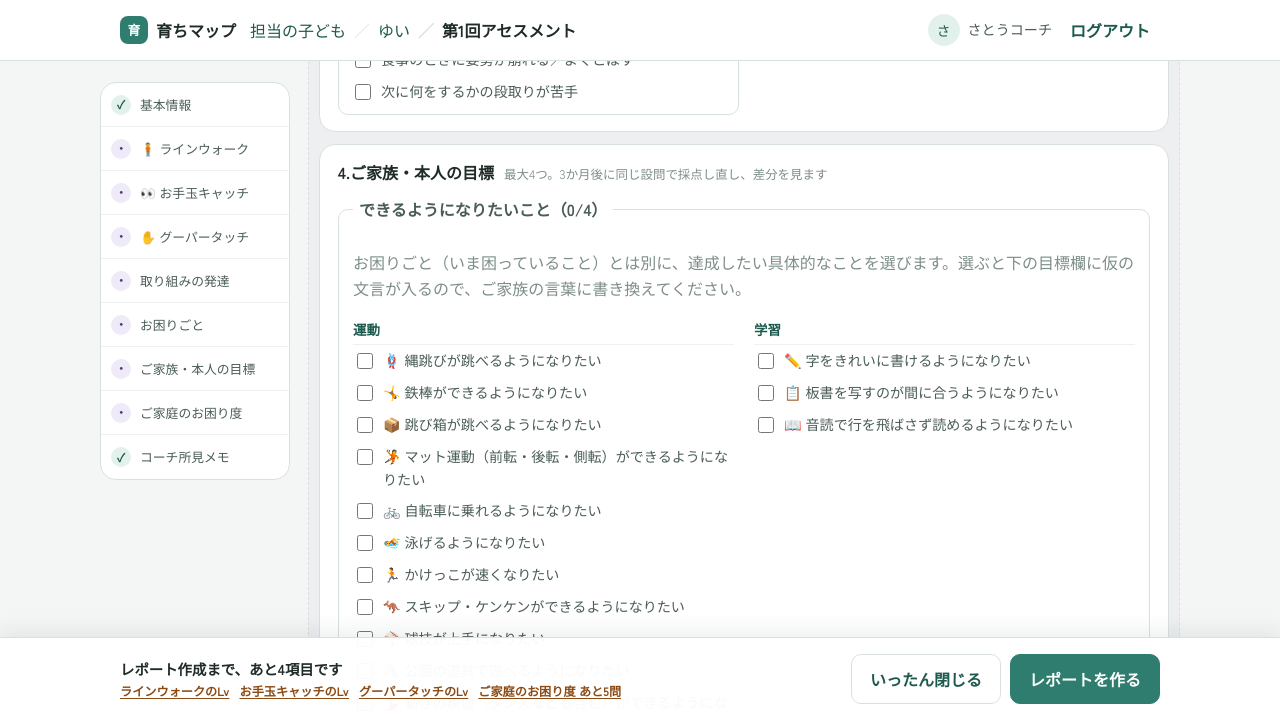
it: アセスメント入力 › できるようになりたいことを選ぶと、目標欄に仮の文言が入る
(page scrolled)
Click the checkbox labelled "🪢 縄跳びが跳べるようになりたい" at [365, 361], box [357, 353, 373, 369]
(page scrolled)
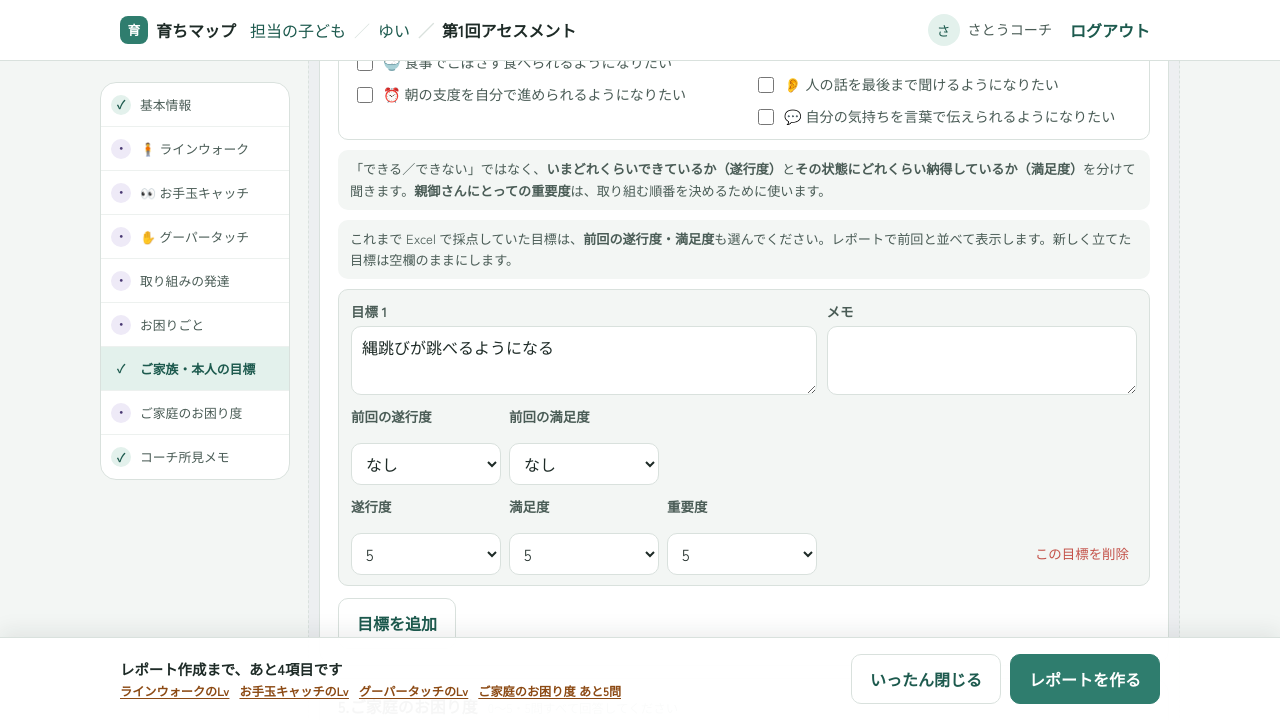
Now the text box labelled "目標 1" holds "縄跳びが跳べるようになる", box [351, 326, 817, 395]
